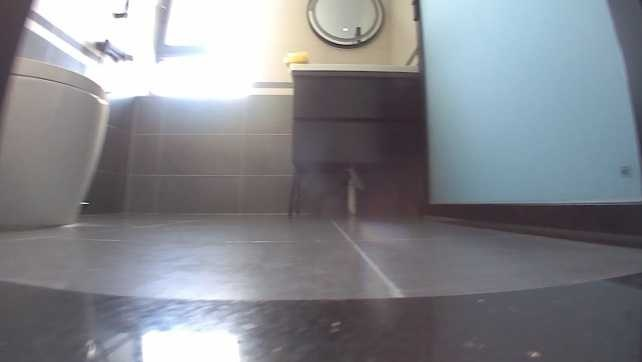toilet: (0, 54, 118, 231)
washstand: (285, 60, 429, 219)
